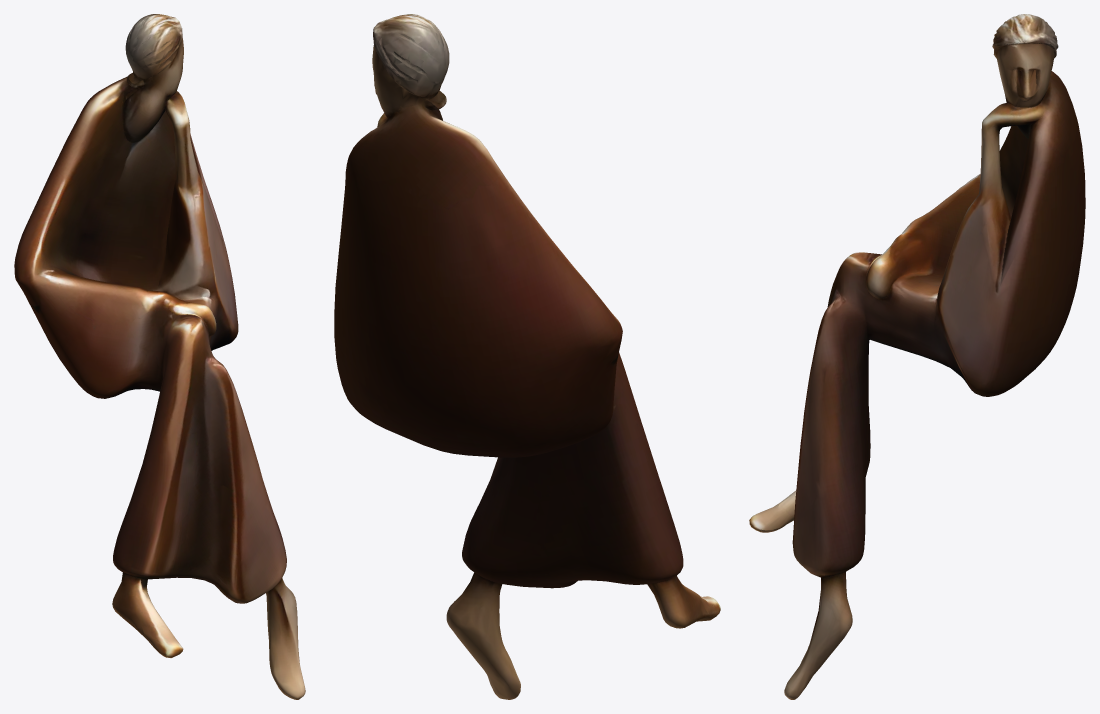
The model's file is listening.glb.
The picture shows the model from 3 angles, left to right: view 1: azimuth 30°, elevation 25°; view 2: azimuth 150°, elevation 25°; view 3: azimuth 270°, elevation 25°; orthographic projection. The views are drawn at different scales.
Parts seen in each view (by area): view 1: model; view 2: model; view 3: model.
Boxes of the visible parts, box(x1,y1,x2,y2) form: model: box(14, 14, 305, 699); model: box(334, 14, 720, 699); model: box(749, 14, 1085, 699).
Size of the model in its own units: 0.6607 by 1.79 by 0.8214.
Materials: 1 (1 with a texture image).
